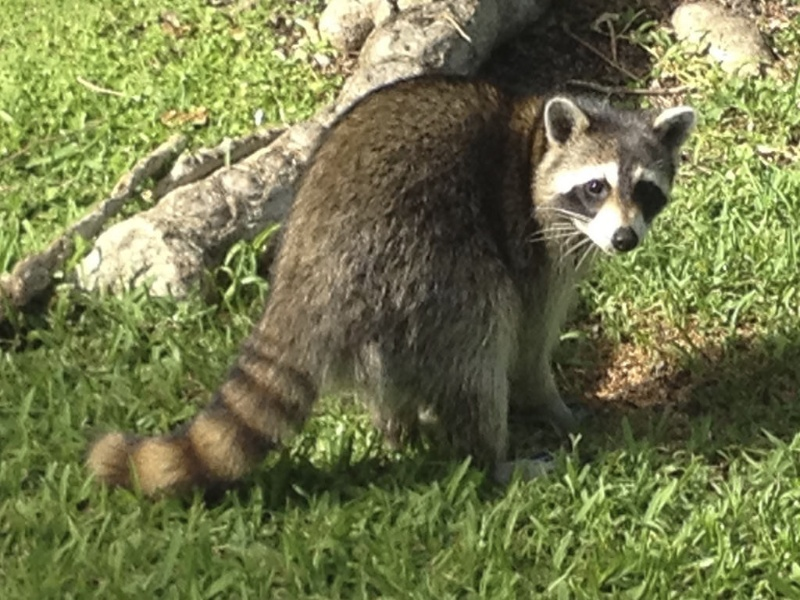raccoon: (94, 69, 699, 522)
